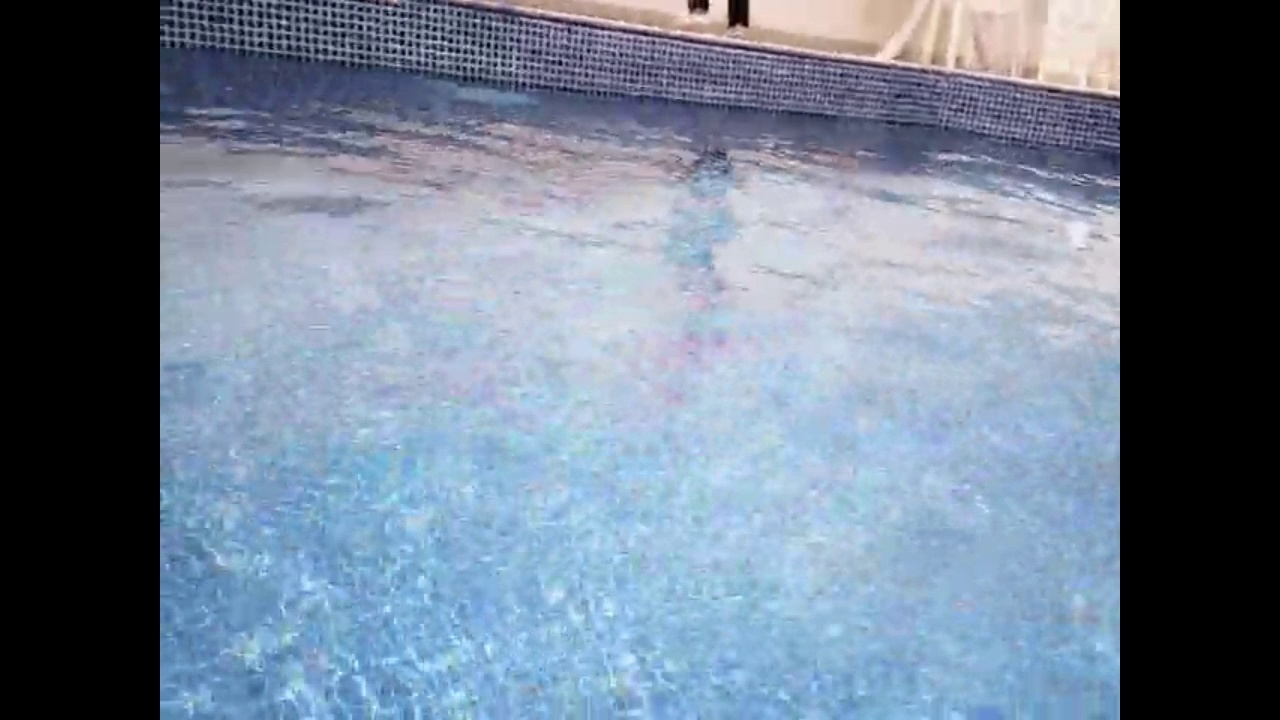debris: (1059, 213, 1097, 257)
